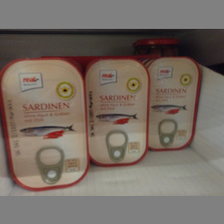fish: (1, 58, 91, 191), (85, 56, 150, 167), (148, 57, 202, 151)
